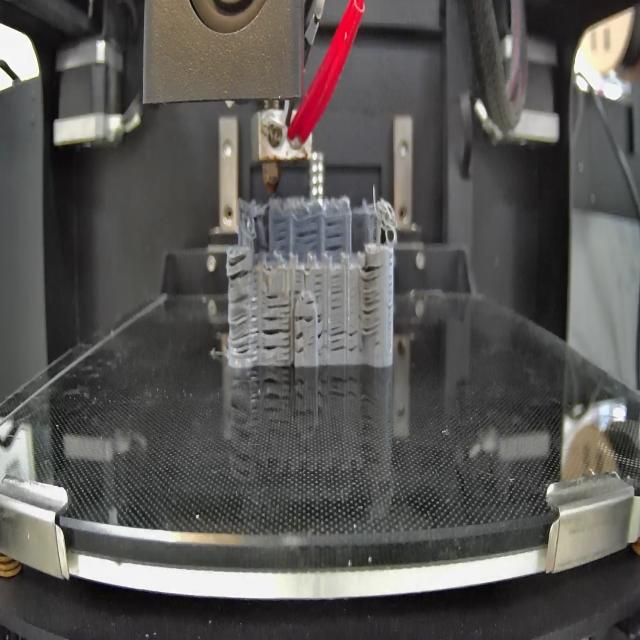cracks: (227, 296, 259, 357), (361, 262, 381, 337), (263, 313, 292, 358), (227, 250, 251, 290), (298, 216, 320, 257), (324, 217, 348, 254), (330, 323, 358, 352), (274, 215, 290, 251), (330, 272, 344, 312), (317, 310, 327, 354), (268, 290, 289, 310), (313, 267, 325, 300), (292, 268, 304, 296), (294, 331, 306, 357), (295, 312, 314, 326), (304, 299, 315, 308)
